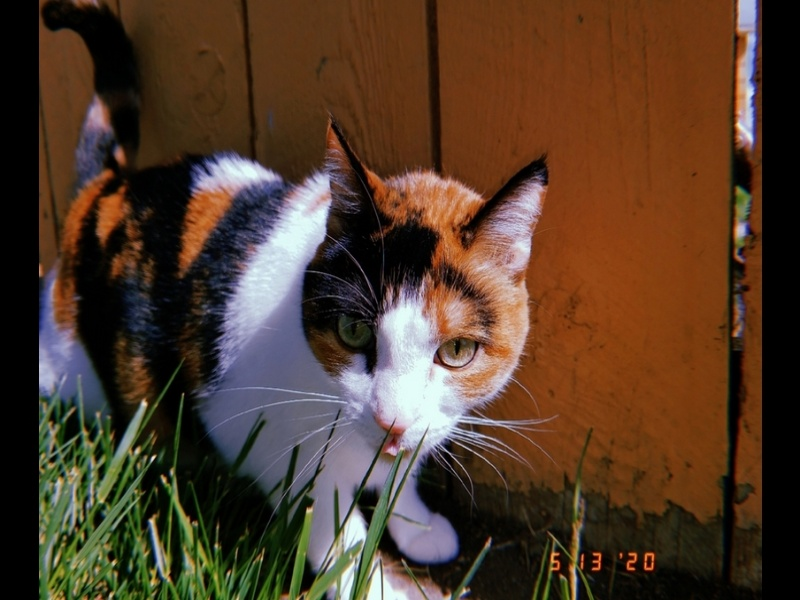cat: (42, 5, 545, 570)
